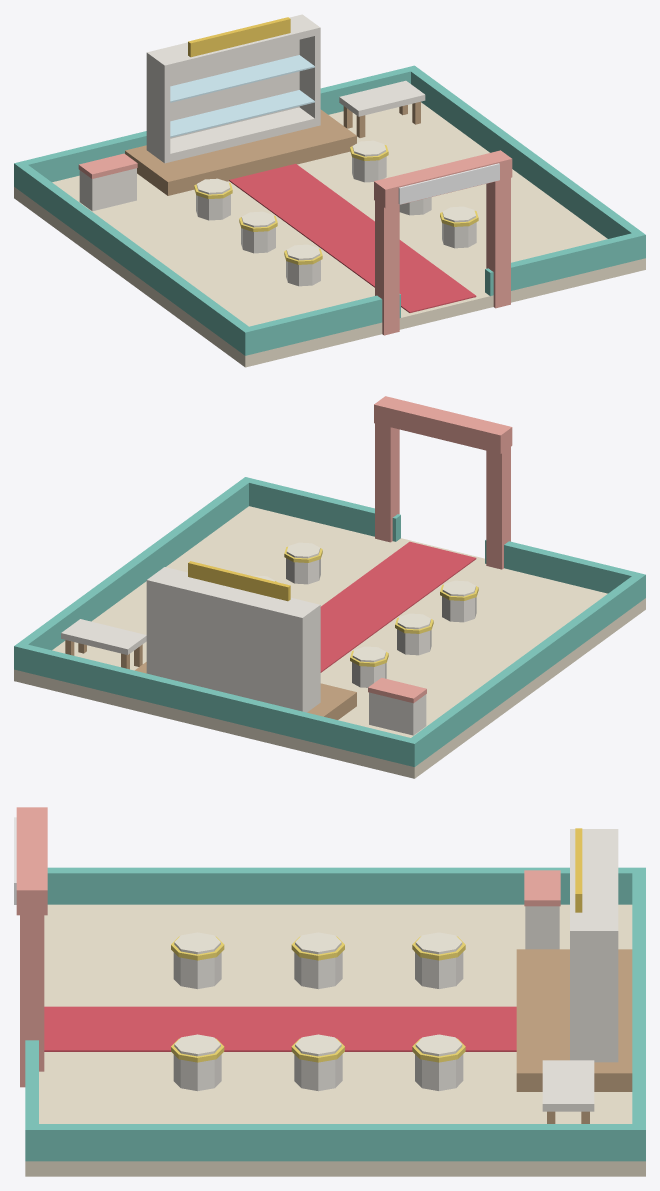
The picture shows the model from 3 angles, top to bottom: view 1: azimuth 30°, elevation 25°; view 2: azimuth 150°, elevation 25°; view 3: azimuth 270°, elevation 25°; orthographic projection. The views are drawn at different scales.
Visible parts, largest first — view 1: Base_Losa, Base_Borde, Base_Mueble, Base_Rojo, Base_Coral, Base_Madera, Base_Vidrio, Base_Crema, Base_Blanco, Base_Dorado, Base_Aro; view 2: Base_Losa, Base_Borde, Base_Mueble, Base_Coral, Base_Rojo, Base_Crema, Base_Madera, Base_Dorado, Base_Aro; view 3: Base_Losa, Base_Borde, Base_Mueble, Base_Rojo, Base_Madera, Base_Coral, Base_Crema, Base_Aro, Base_Dorado.
Boxes of the visible parts, x1,y1,x2,y2 form: Base_Losa: (14,102,645,367); Base_Borde: (14,65,645,355); Base_Mueble: (79,14,476,286); Base_Rojo: (229,163,476,312); Base_Coral: (78,150,512,335); Base_Madera: (125,101,420,195); Base_Vidrio: (170,55,314,137); Base_Crema: (196,140,475,260); Base_Blanco: (398,163,499,204); Base_Dorado: (188,17,290,57); Base_Aro: (194,145,478,264); Base_Losa: (14,506,645,778); Base_Borde: (14,477,645,766); Base_Mueble: (61,558,476,735); Base_Coral: (368,396,512,703); Base_Rojo: (320,541,476,672); Base_Crema: (252,542,475,662); Base_Madera: (65,640,356,719); Base_Dorado: (188,561,290,601); Base_Aro: (275,546,478,666); Base_Losa: (25,904,645,1176); Base_Borde: (25,867,645,1161); Base_Mueble: (173,829,618,1111); Base_Rojo: (44,1006,516,1051); Base_Madera: (516,949,632,1123); Base_Coral: (16,807,560,1087); Base_Crema: (174,932,462,1056); Base_Aro: (171,936,465,1062); Base_Dorado: (575,828,582,912).
Bounding box in the file's own units: 36 × 12.6 × 36.65.
